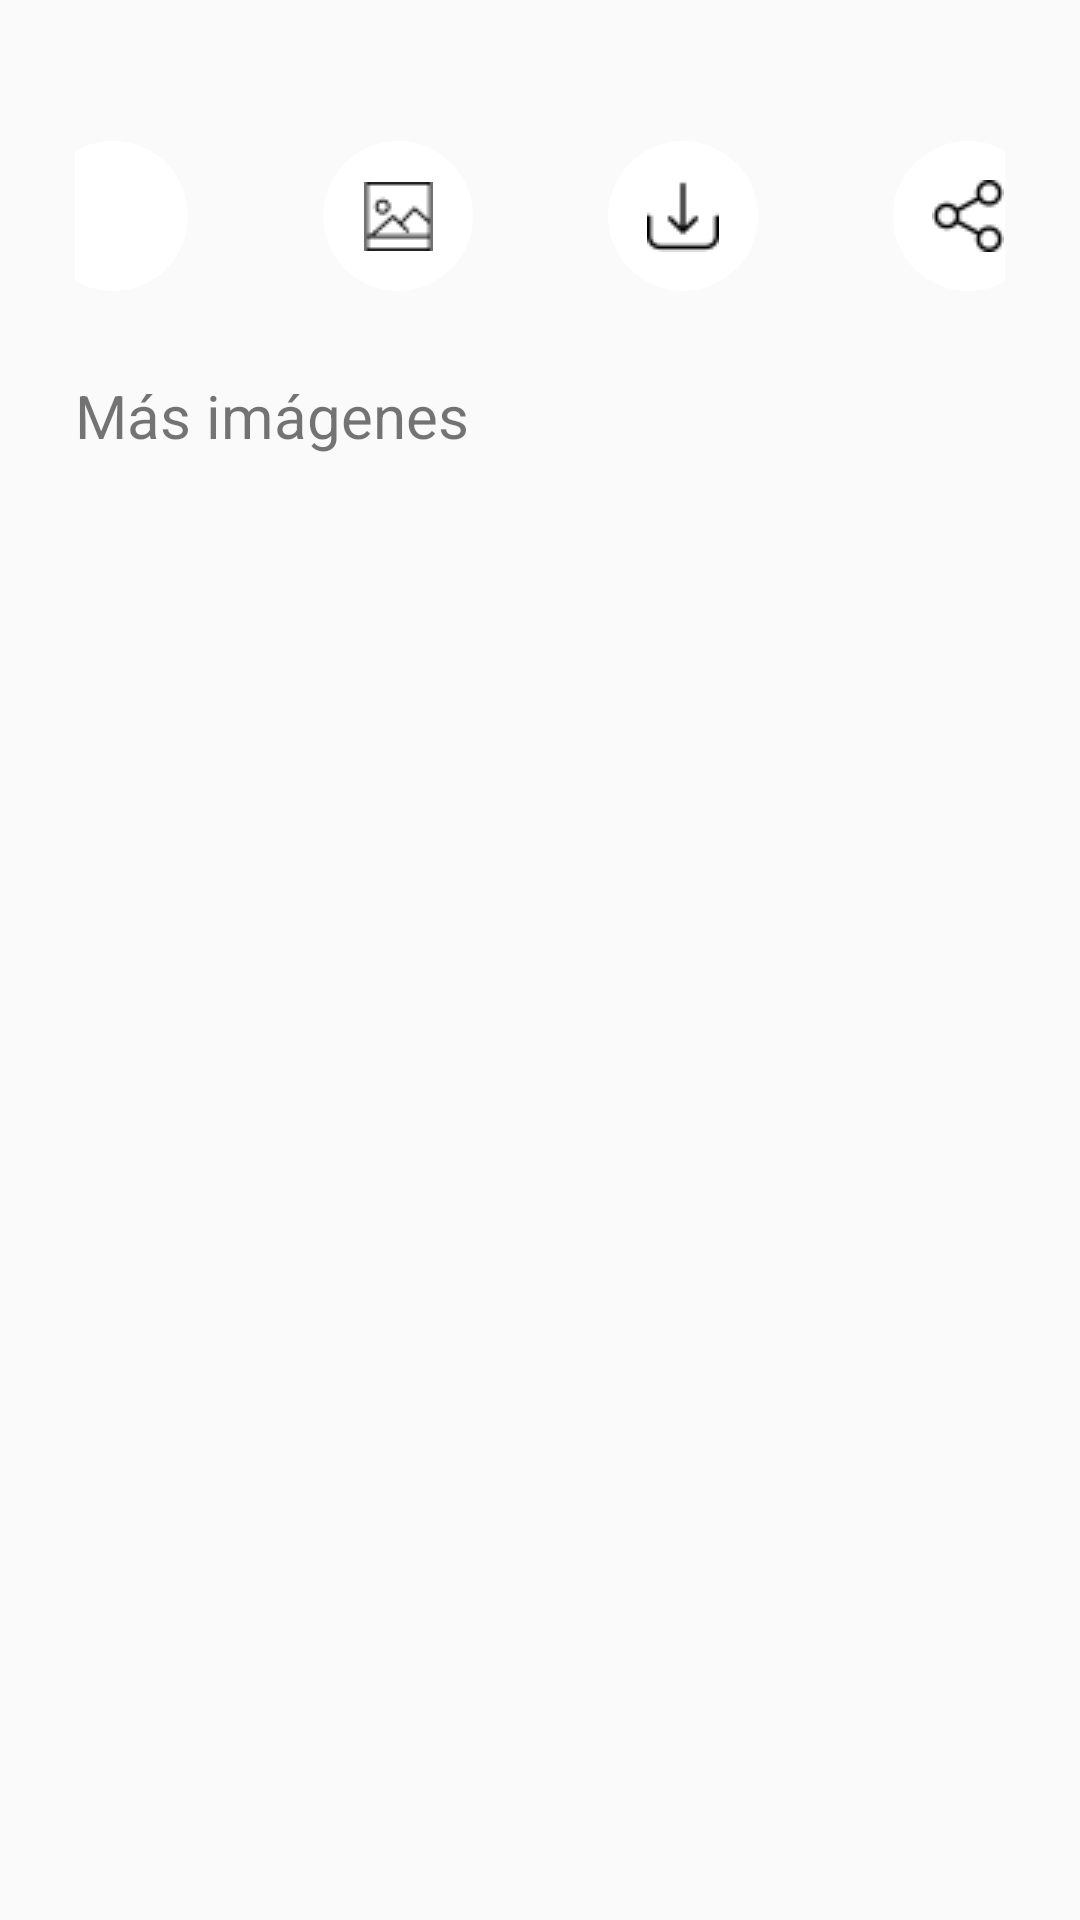

Icon click points for this 1080 × 1920 phone screenshot, format (x,y):
download: (683,217)
share: (968,216)
